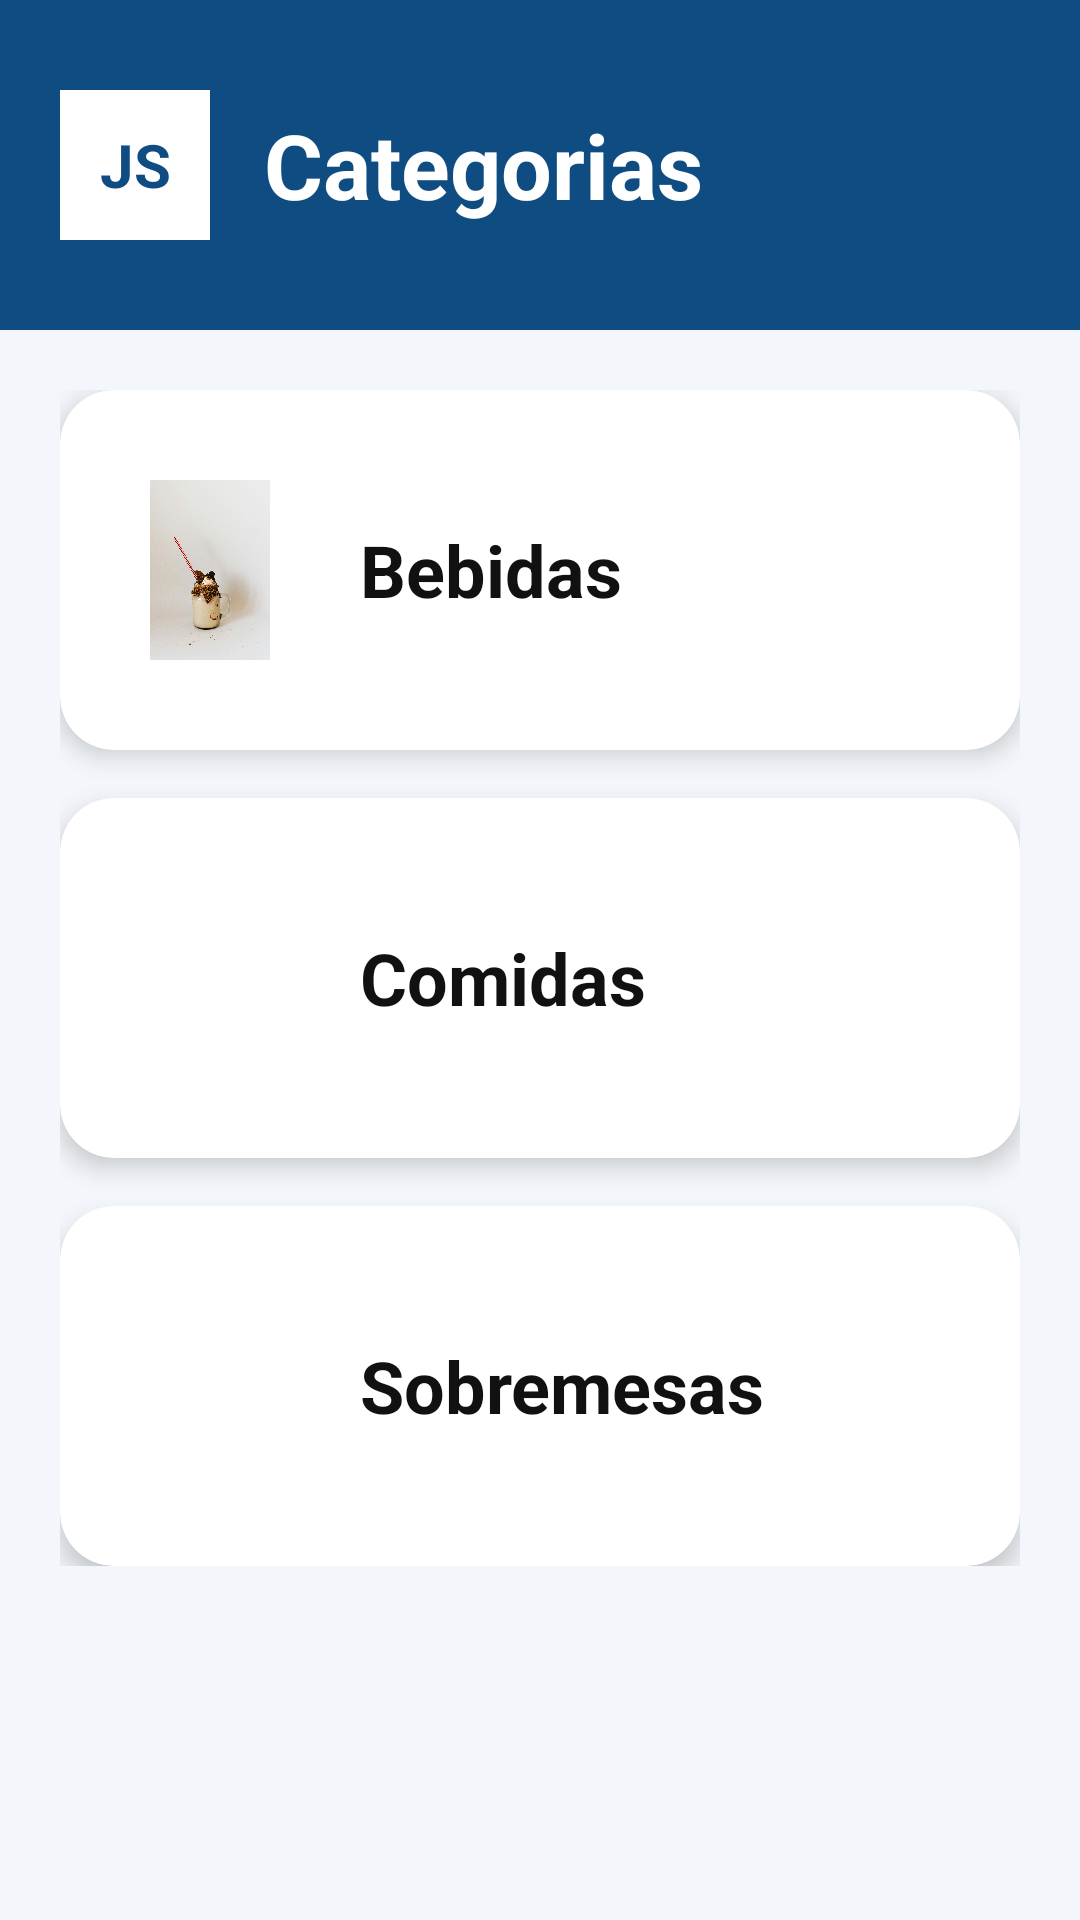

Where icons sit on this 1080 x 1920 app screen, as (x1, y1, x2, y2):
milkshake: (150, 480, 270, 660)
